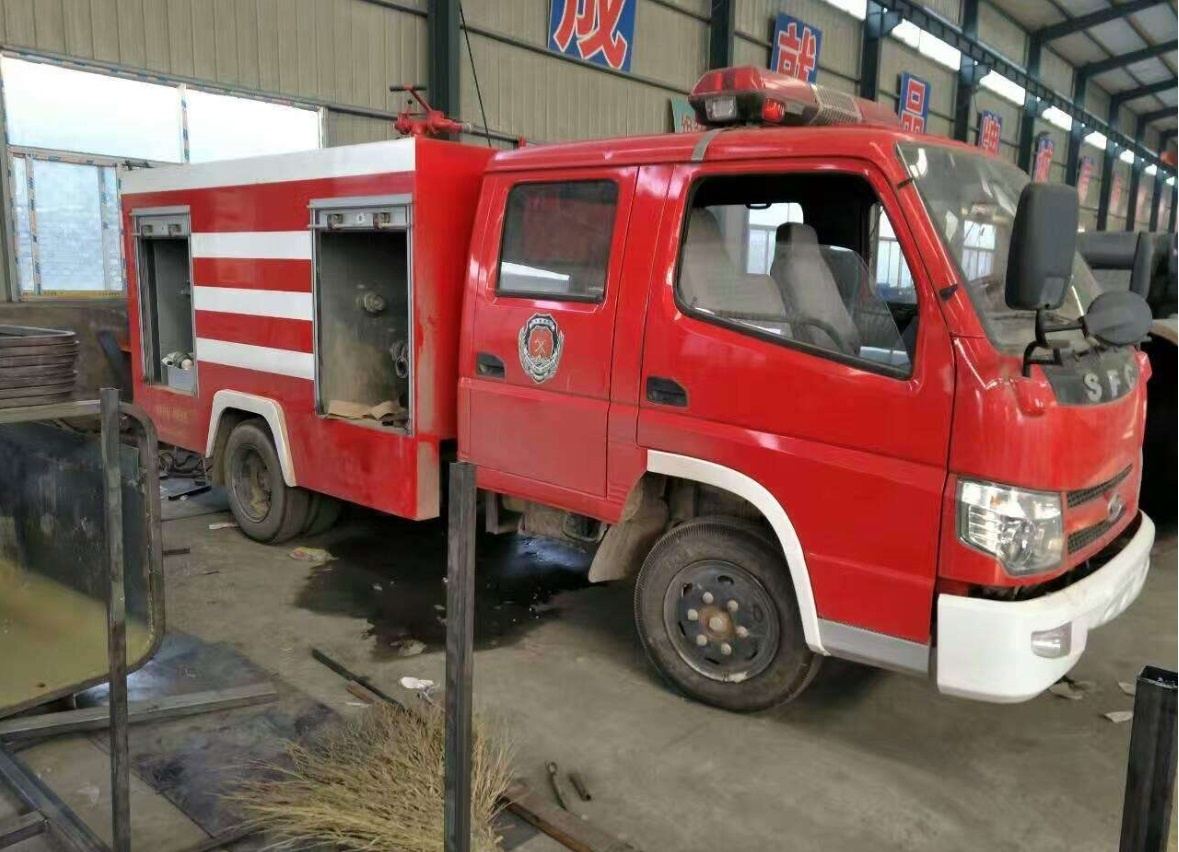fire engine: (94, 137, 1151, 726)
